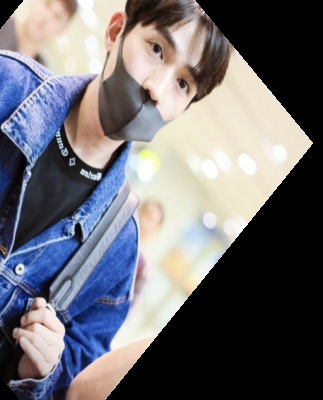mask_weared_incorrect: (71, 1, 237, 150)
